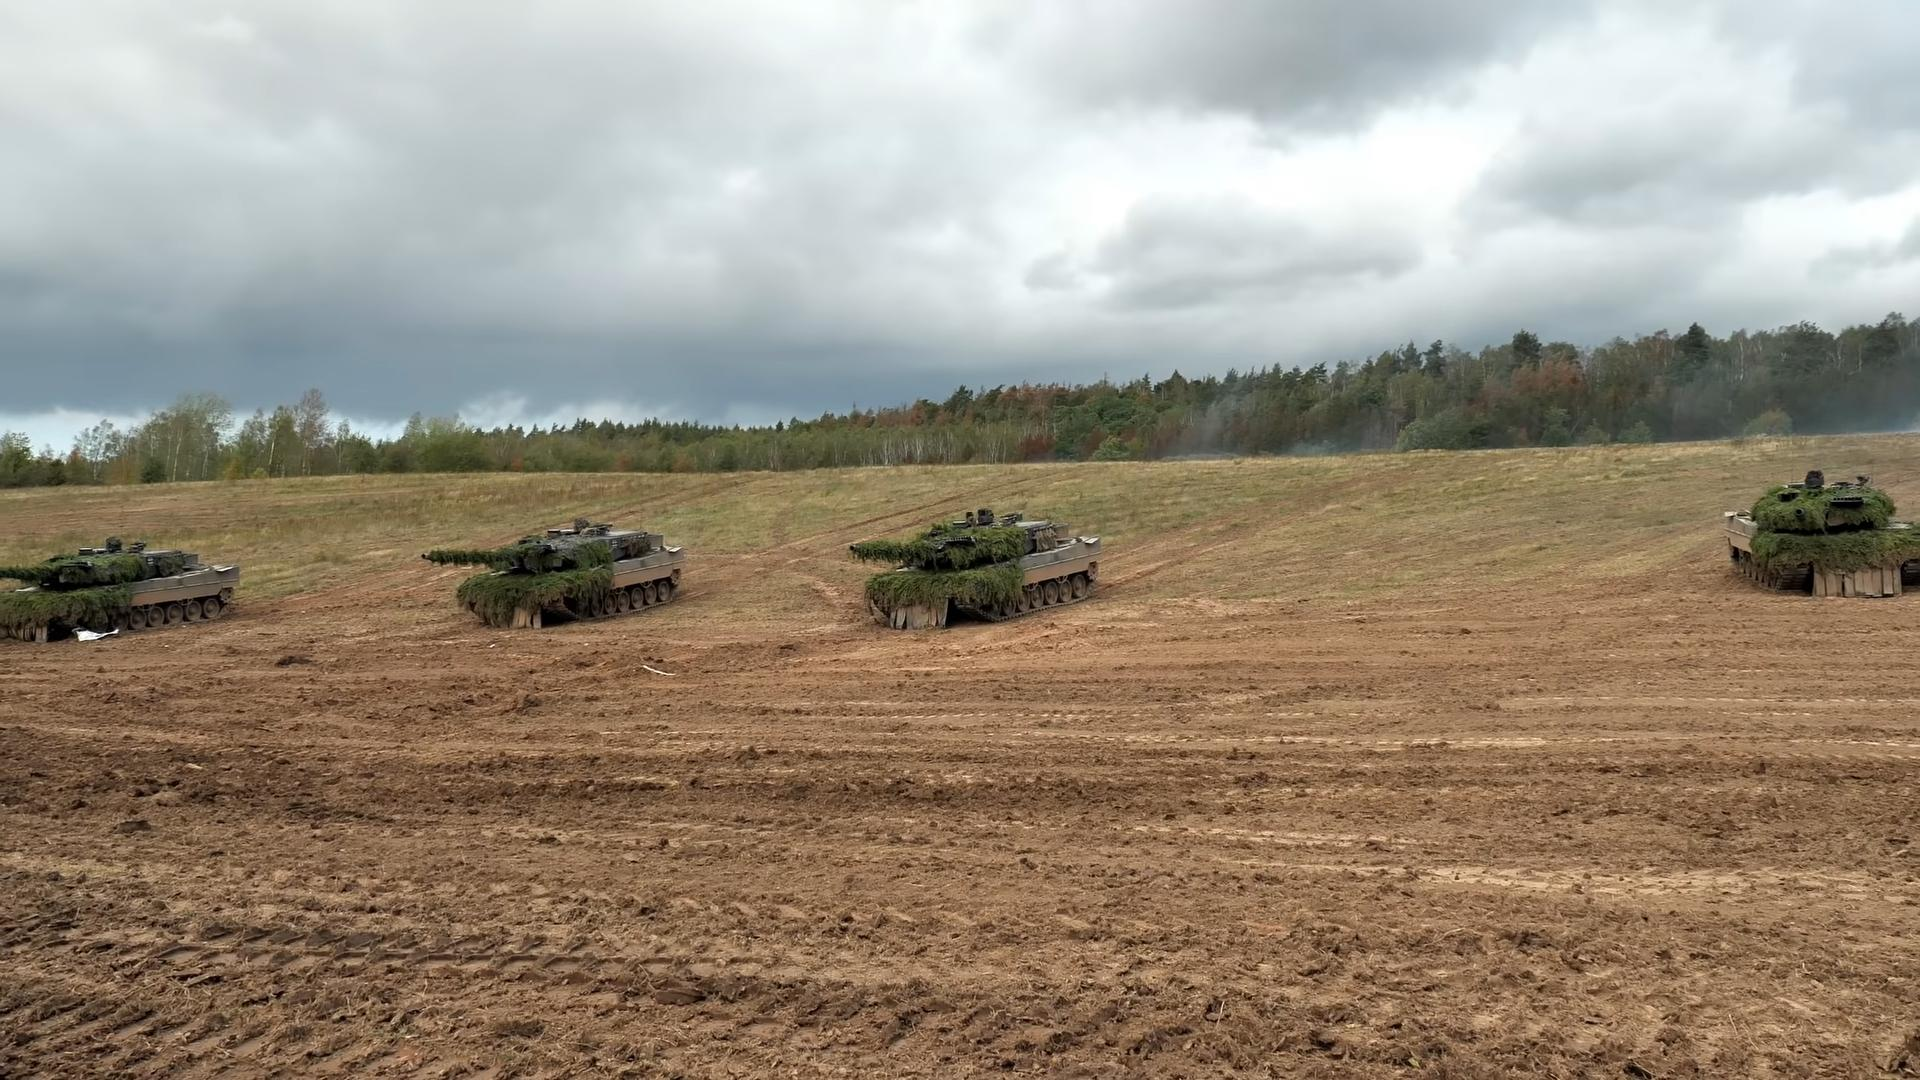tank: (851, 508, 1101, 628), (422, 518, 684, 628), (0, 538, 239, 642), (1725, 472, 1919, 596)
